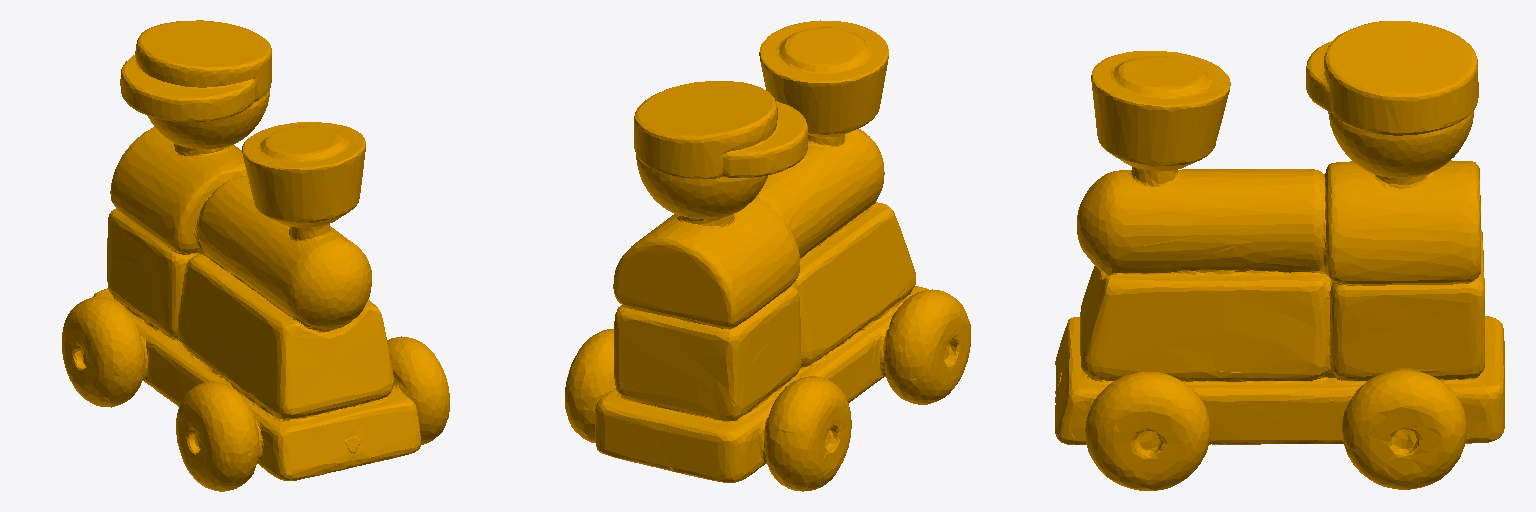
robot.urdf — 1sd7wetx:
<?xml version='1.0'?>

<robot name="1sd7wetx">
    <static>false</static>
    <link name="link">
        <inertial>
            <mass value="0.1769133158498574"/>
            <inertia ixx="0.000311147914899967" ixy="4.059443917568316e-08" ixz="5.032826050836879e-07"
                     iyy="0.00017993537157127526" iyz="-1.665712583398074e-05" izz="0.00021407957595356495"/>
        </inertial>
        <collision name="collision">
            <geometry>
                <mesh filename="package://miscnet/train/1sd7wetx/collision_model_vhacd.obj"/>
            </geometry>
        </collision>
        <visual name="visual">
            <geometry>
                <mesh filename="package://miscnet/train/1sd7wetx/visual_model.obj"/>
            </geometry>
        </visual>
    </link>
</robot>

--- Facts derived from the render (not from the file) ---
The picture shows the robot from 3 angles, left to right: view 1: azimuth 30°, elevation 25°; view 2: azimuth 150°, elevation 25°; view 3: azimuth 270°, elevation 25°; orthographic projection.
Model 1sd7wetx with 1 links and 0 joints (none), rooted at link, posed all joints at 0.
Visible links, largest first — view 1: link; view 2: link; view 3: link.
Link boxes in pixels (left/top/right/bottom): link: left=62, top=20, right=449, bottom=491; link: left=565, top=20, right=970, bottom=491; link: left=1055, top=21, right=1504, bottom=490.
Size in the robot's own frame: 0.0806 by 0.1162 by 0.1102 metres.
Meshes: 1 distinct files referenced, 1 mesh visuals loaded (1 OBJ).
